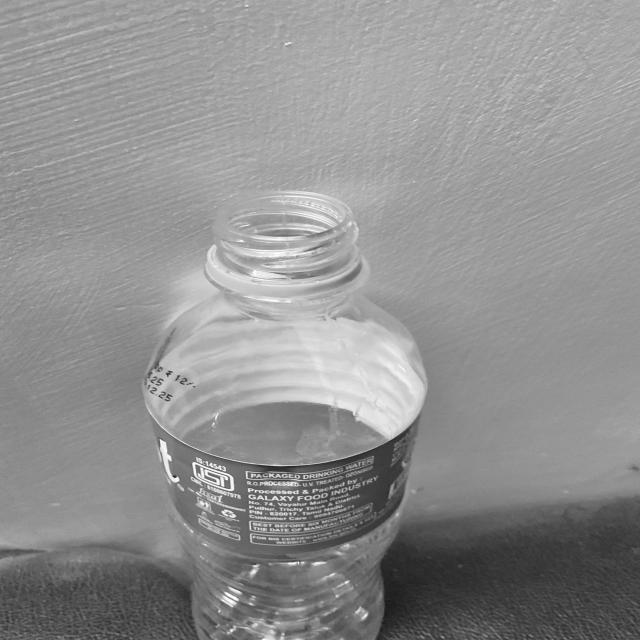open-cap: (199, 185, 374, 298)
